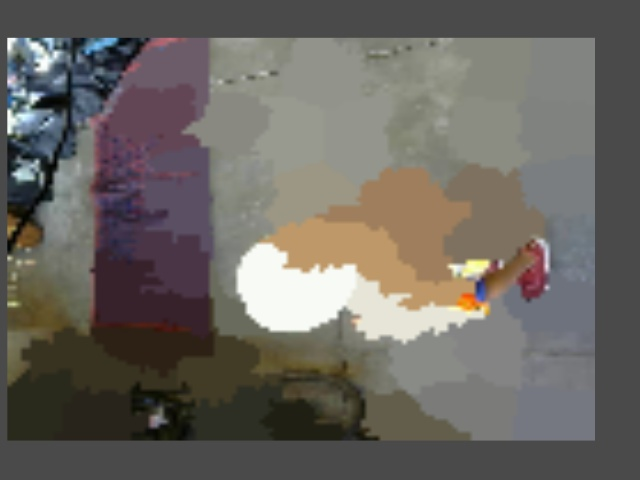eight: (285, 233, 329, 274)
